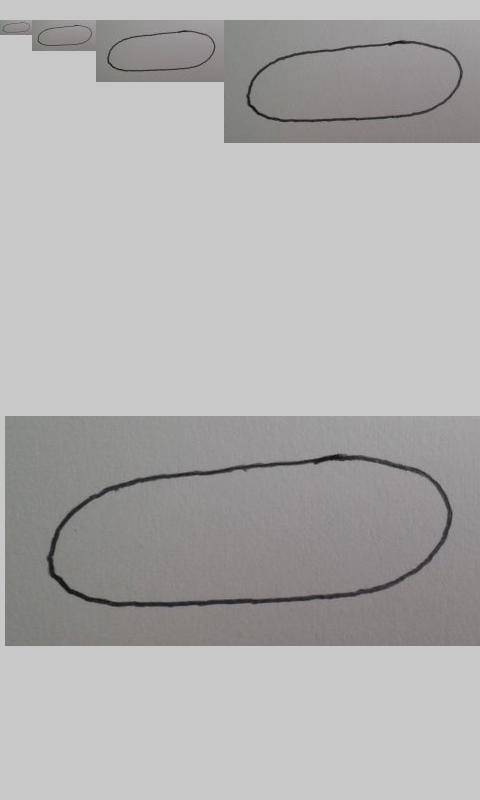chip: (46, 453, 453, 608), (245, 39, 464, 123), (107, 30, 216, 73), (37, 24, 93, 47), (2, 22, 31, 34)
